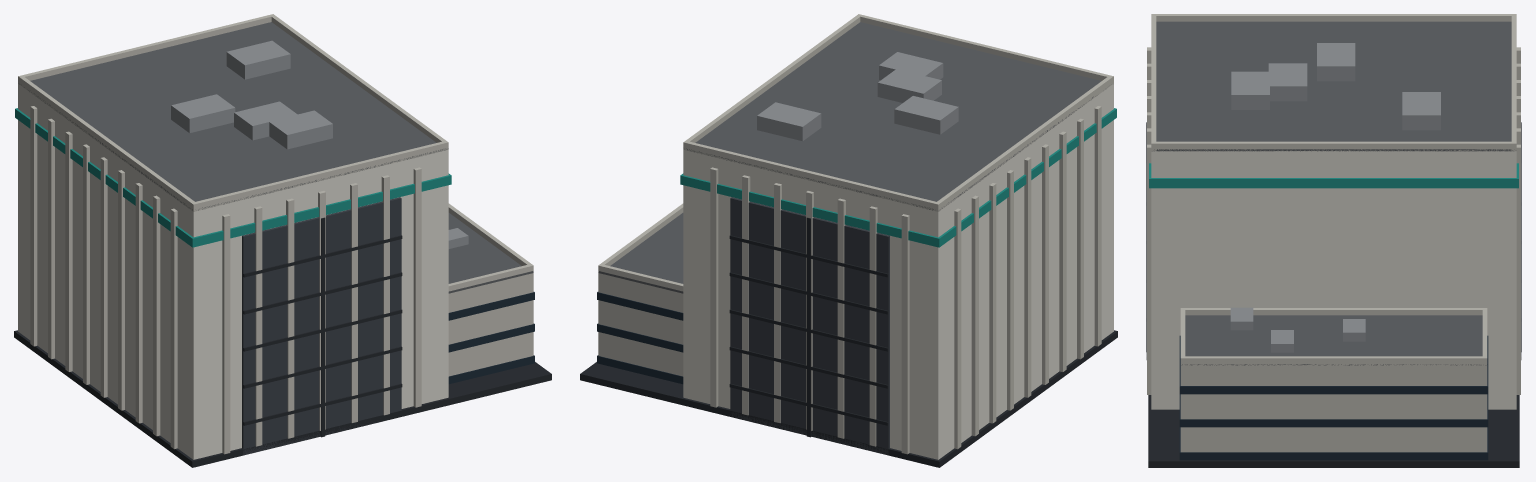
Rendered from vehicle_assembly_1.glb.
3 renders of one model, left to right at view 1: azimuth 30°, elevation 25°; view 2: azimuth 150°, elevation 25°; view 3: azimuth 270°, elevation 25°, orthographic. The views are drawn at different scales.
Visible parts, largest first — view 1: Assembly; view 2: Assembly; view 3: Assembly.
Part boxes in pixels (x1,y1,x2,y2): Assembly: (14,14,551,467); Assembly: (580,14,1117,467); Assembly: (1146,14,1521,467).
Size of the model in its own units: 71.2 by 51.11 by 61.6.
